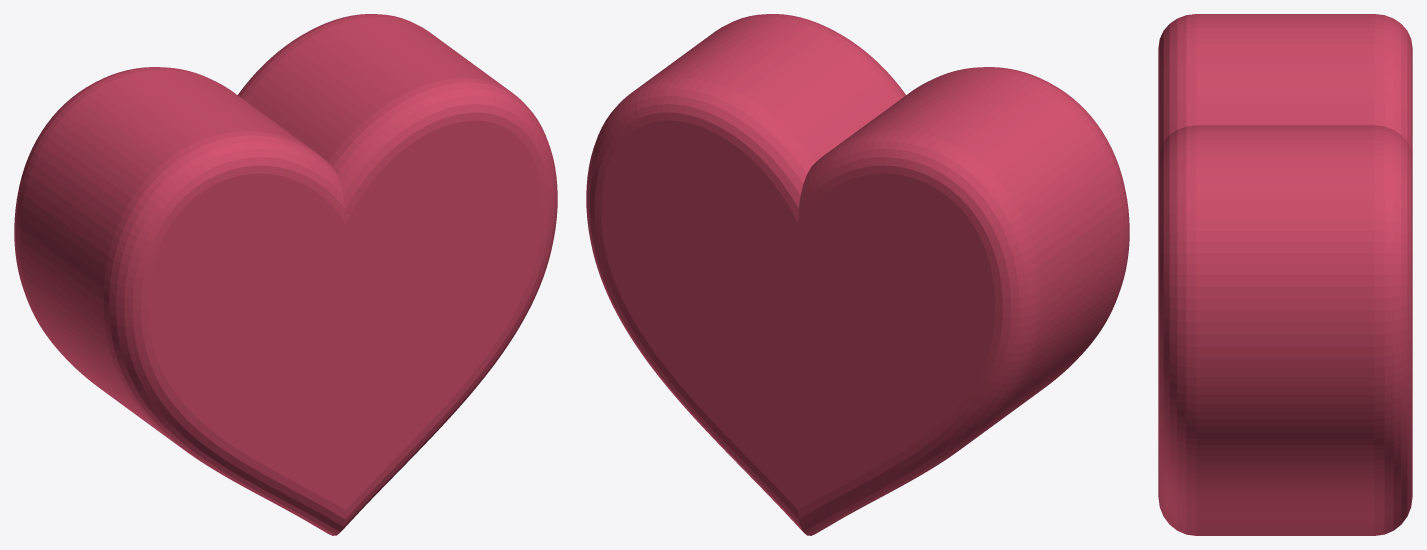
File: heart.glb
3 renders of one model, left to right at view 1: azimuth 30°, elevation 25°; view 2: azimuth 150°, elevation 25°; view 3: azimuth 270°, elevation 25°, orthographic. The views are drawn at different scales.
Parts seen in each view (by area): view 1: heart; view 2: heart; view 3: heart.
Part boxes in pixels (<box>): heart: <box>14,14,557,535</box>; heart: <box>586,14,1129,535</box>; heart: <box>1158,14,1412,535</box>.
Bounding box in the file's own units: 2.62 × 2.37 × 1.21.
